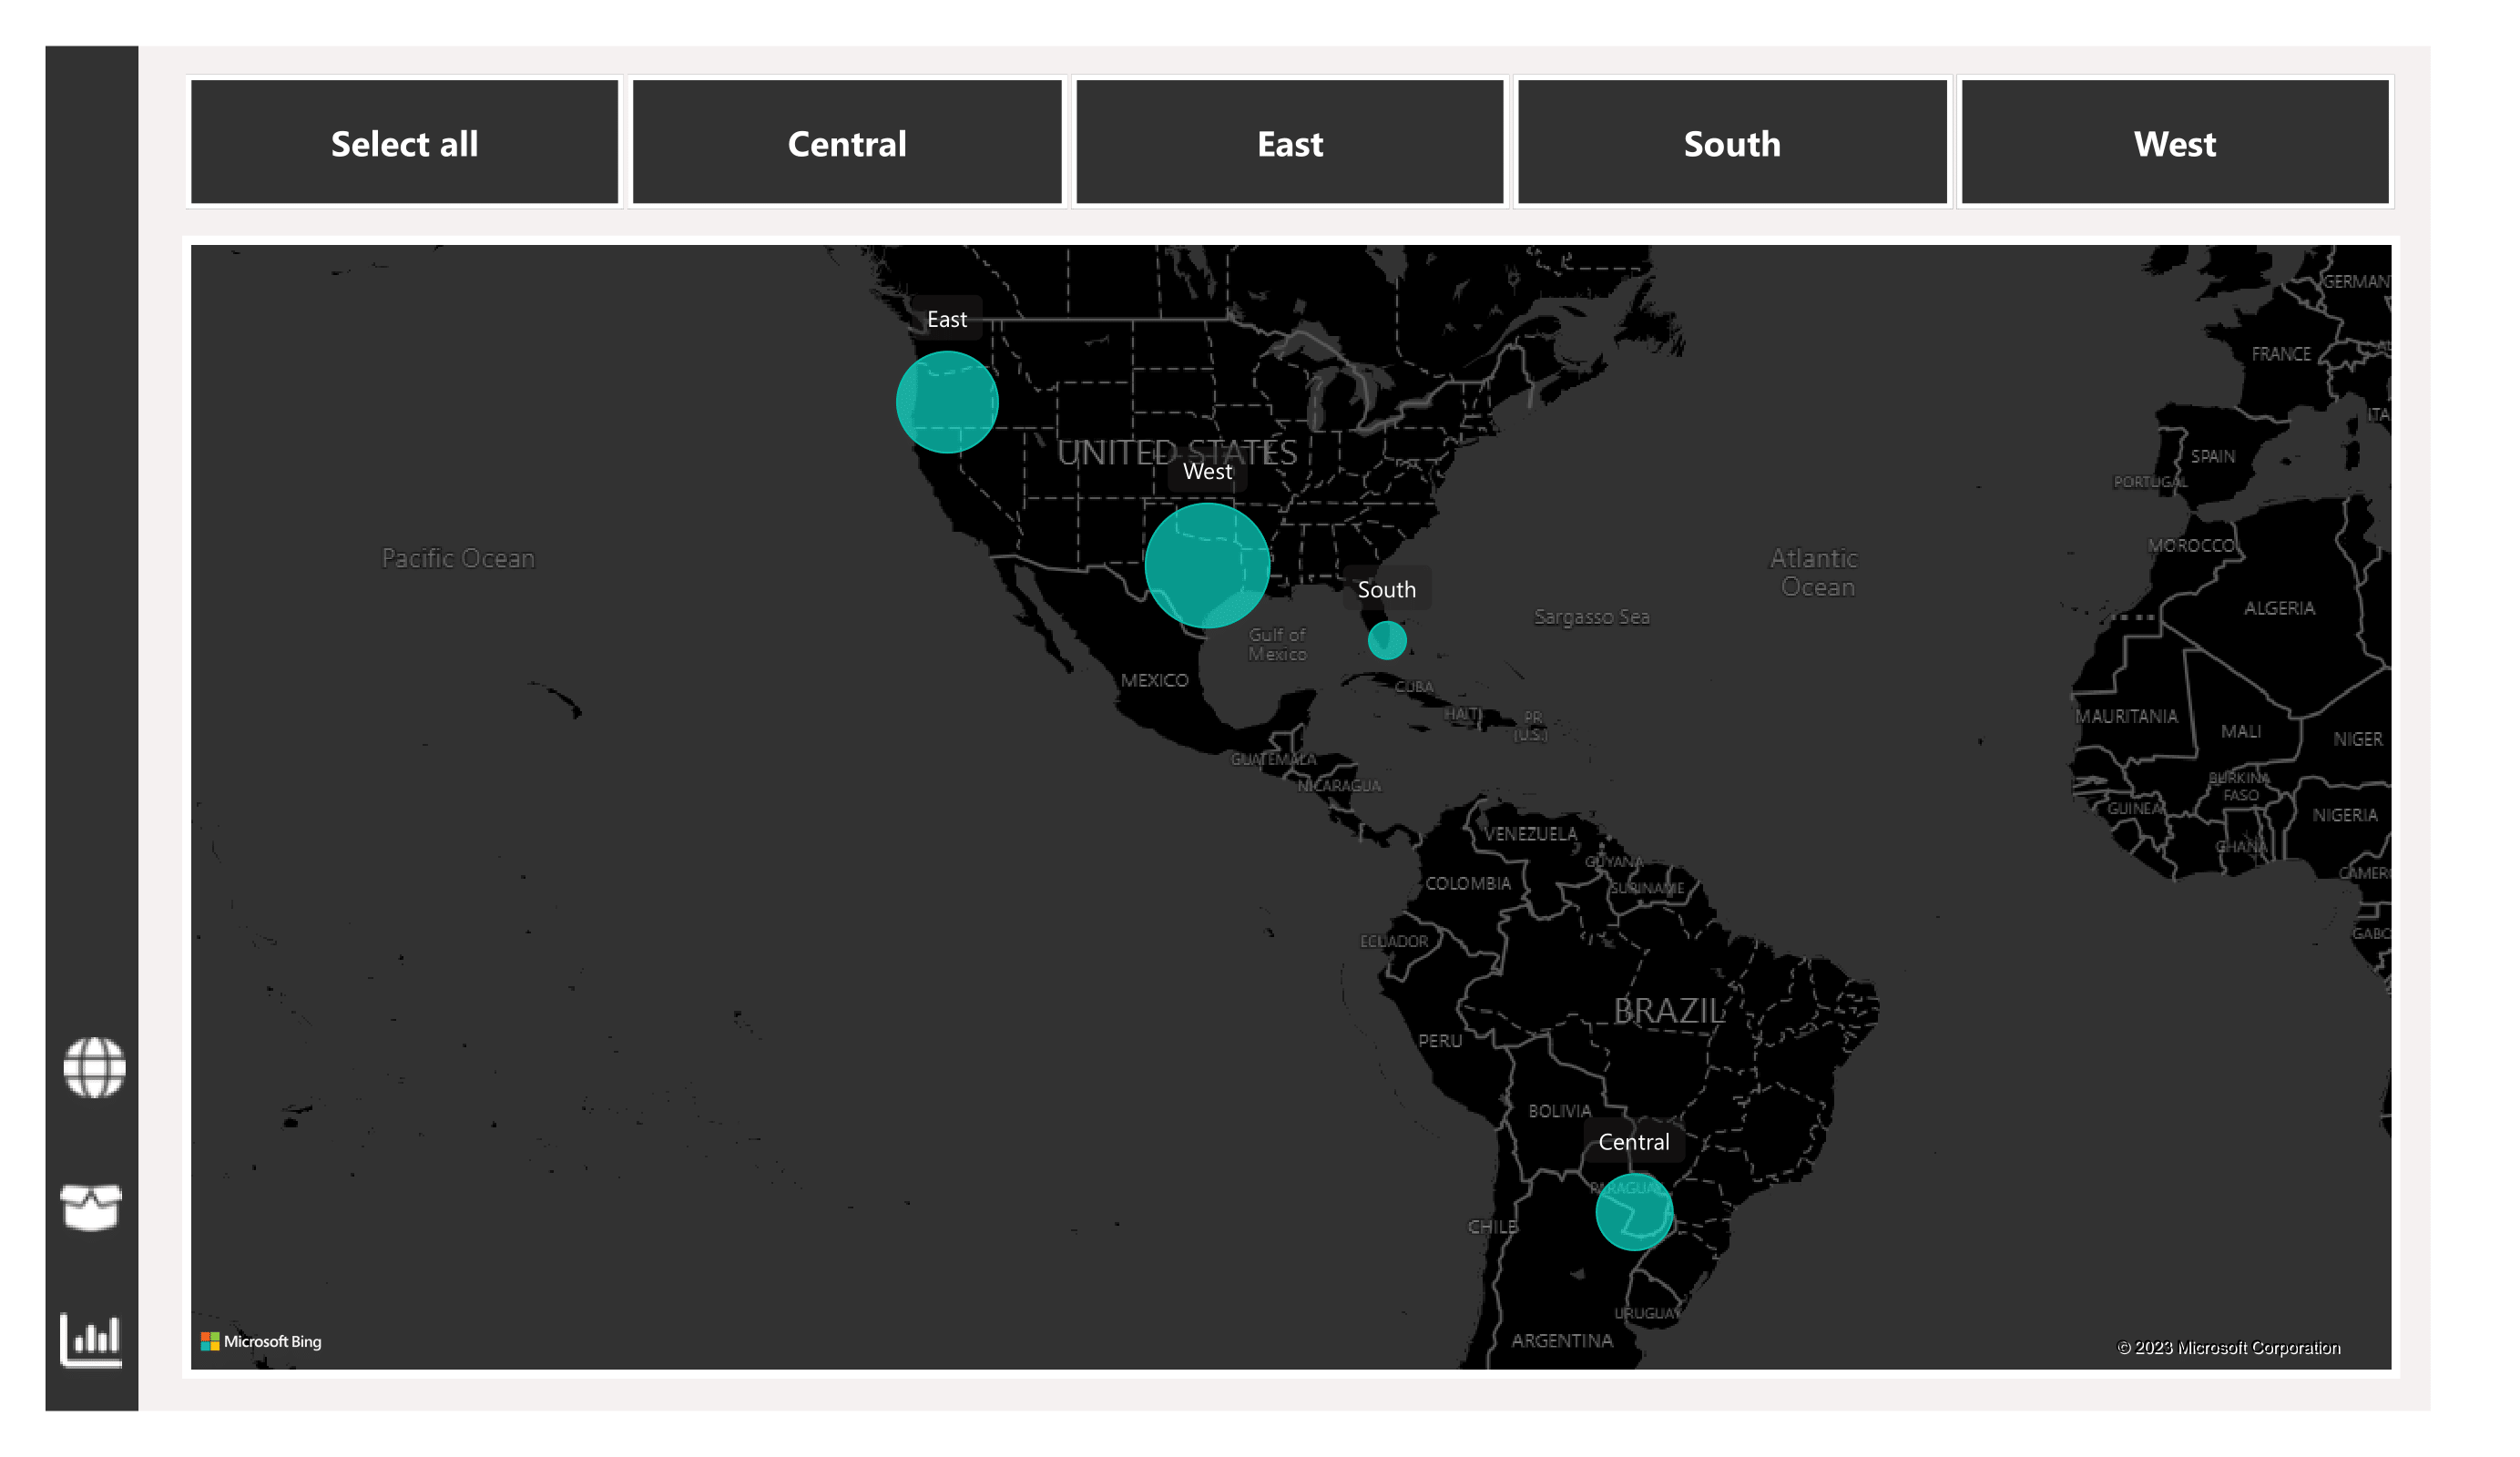

The dashboard page shown, as its layout file describes it:
{"tool":"powerbi","page":{"name":"Map","canvas":[1280,720],"ordinal":2},"visuals":[{"type":"shape","box":[0,0,1258.3,720],"z":0},{"type":"map","fields":{"Size":["Measures (3).Total Orders"],"Category":["Orders.Region"]},"box":[71.7,100,1170,603.3],"z":1000},{"type":"shape","box":[0,0,48.6,720],"z":2000},{"type":"actionButton","box":[4.2,663.3,53.3,40],"z":3000},{"type":"actionButton","box":[5.6,518.9,53.3,40],"z":4000},{"type":"slicer","fields":{"Values":["Orders.Region"]},"box":[48.3,8.3,1215,85],"z":5000},{"type":"actionButton","box":[4.4,593.3,53.3,40],"z":6000}]}

Visuals, with their boxes on the page's 1280x720 design canvas (x1, y1, x2, y2). These are canvas units, not pixel positions in the 2520x1457 screenshot, which may show the page scaled, cropped or inside an application window:
shape: left=0, top=0, right=1258, bottom=720
map - Measures (3).Total Orders x Orders.Region: left=72, top=100, right=1242, bottom=703
shape: left=0, top=0, right=49, bottom=720
actionButton: left=4, top=663, right=58, bottom=703
actionButton: left=6, top=519, right=59, bottom=559
slicer - Orders.Region: left=48, top=8, right=1263, bottom=93
actionButton: left=4, top=593, right=58, bottom=633
